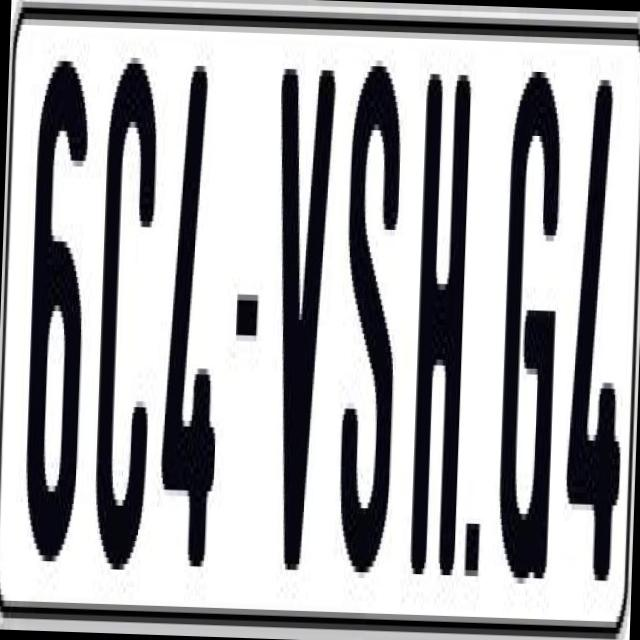4: (153, 64, 230, 596), (559, 72, 626, 574)
6: (17, 60, 94, 598)
C: (92, 56, 160, 587)
G: (493, 58, 564, 584)
H: (408, 55, 472, 558)
S: (332, 47, 405, 590)
V: (260, 50, 334, 553)
